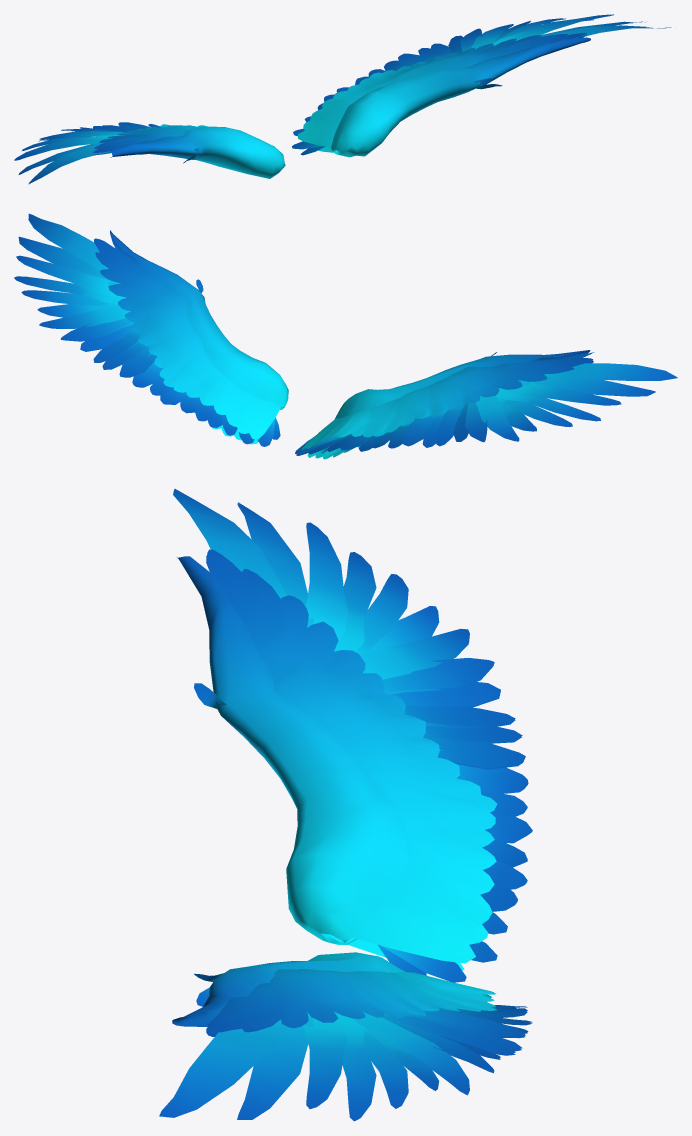
The model's file is Wings.fbx.
3 renders of one model, top to bottom at view 1: azimuth 30°, elevation 25°; view 2: azimuth 150°, elevation 25°; view 3: azimuth 270°, elevation 25°, orthographic. The views are drawn at different scales.
Visible parts, largest first — view 1: Wings; view 2: Wings; view 3: Wings.
Part boxes in pixels (box(x1,y1,x2,y2)): Wings: box(14, 14, 671, 184); Wings: box(14, 213, 677, 459); Wings: box(159, 489, 532, 1121).
Bounding box in the file's own units: 3.96 × 0.6282 × 0.9921.
